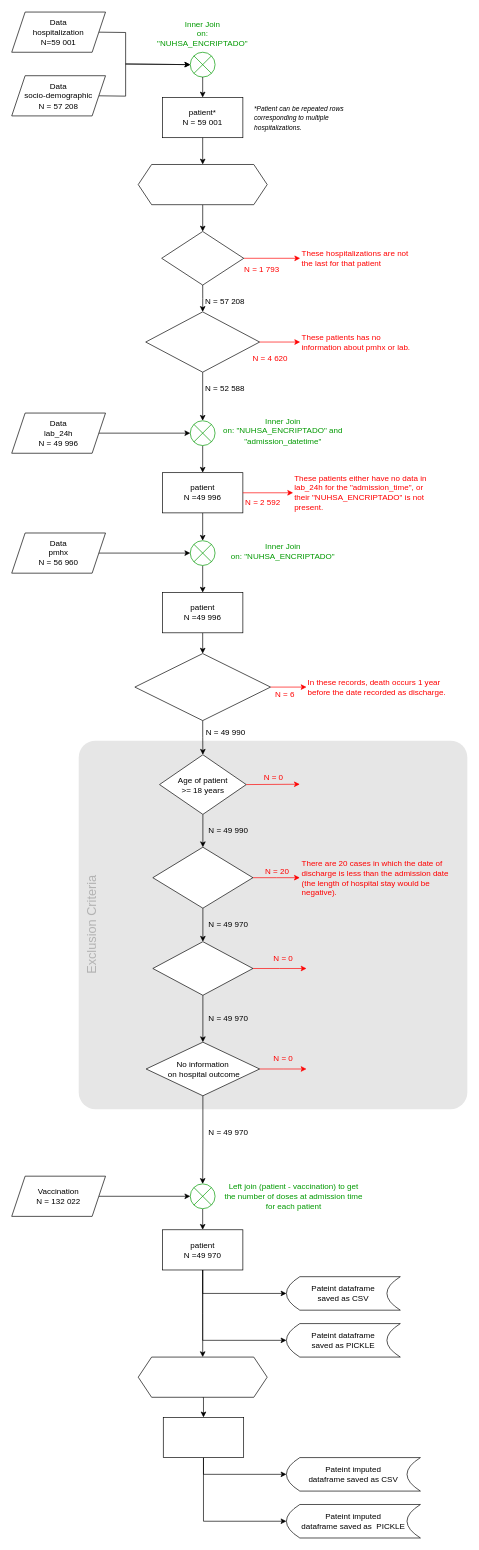
Image size: 479x1550. Some labels were removed from this diagram. Each missing label, with the box of its shape:
Determine whether the last hospitalization is considered a reinfection.: (138, 164, 267, 205)
Discharge date < Admission date: (152, 847, 253, 908)
Has the patient pmhx or lab information?: (145, 311, 260, 372)
Inpute NA's using Iterative Imputer: (138, 1356, 267, 1397)
Is there any inconsistency between the discharge period and the date of death?: (134, 653, 271, 721)
Keep the last hospitalization: (161, 231, 244, 285)
No information on admission date: (152, 941, 253, 995)
patient imputed N =49 970: (163, 1417, 244, 1458)
